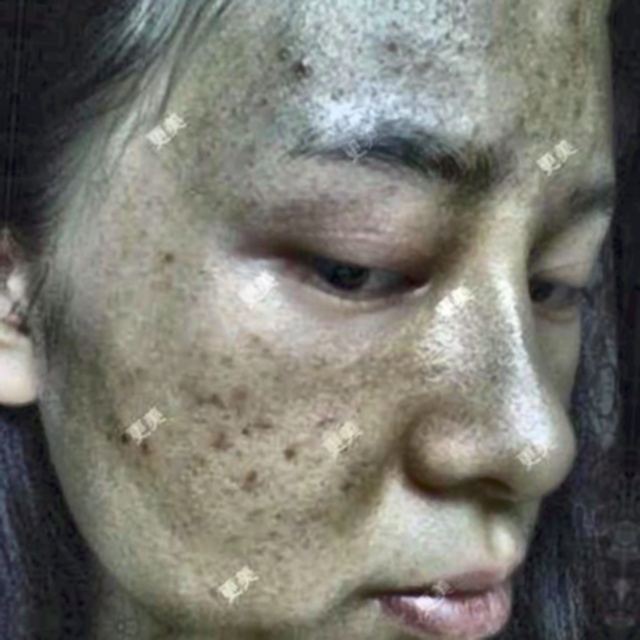comedone: (282, 50, 324, 89), (211, 421, 246, 456), (138, 433, 161, 467)
